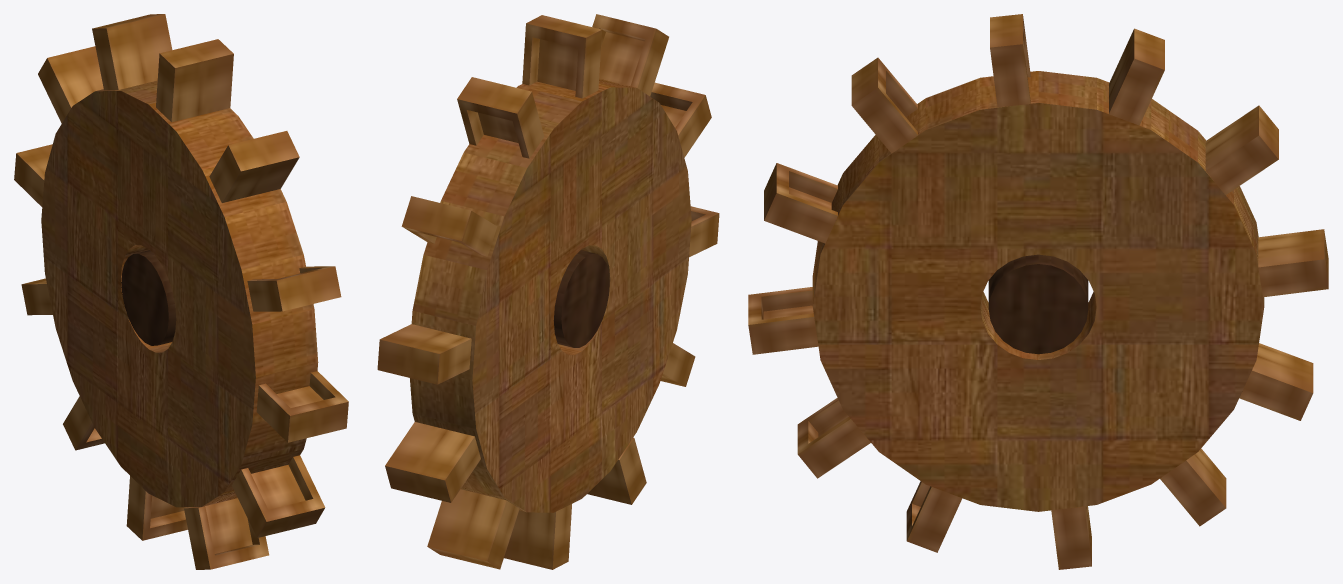
Rendered from gear_big_oneunit.fbx.
The picture shows the model from 3 angles, left to right: view 1: azimuth 30°, elevation 25°; view 2: azimuth 150°, elevation 25°; view 3: azimuth 270°, elevation 25°; orthographic projection. The views are drawn at different scales.
Visible parts, largest first — view 1: Group1, Ball_Holder_1_11, Ball_Holder_1_10, Ball_Holder_1_7, Ball_Holder_1_9, Ball_Holder_1_4, Ball_Holder_1_1, Ball_Holder_1_5, Ball_Holder_1_6, Ball_Holder_1_2, Ball_Holder_1_12, Ball_Holder_1_8 (+1 smaller); view 2: Group1, Ball_Holder_1_3, Ball_Holder_1_11, Ball_Holder_1_8, Ball_Holder_1_7, Ball_Holder_1_12, Ball_Holder_1_9, Ball_Holder_1_6, Ball_Holder_1_2, Ball_Holder_1_5, Ball_Holder_1_1, Ball_Holder_1_4 (+1 smaller); view 3: Group1, Ball_Holder_1_6, Ball_Holder_1_5, Ball_Holder_1_12, Ball_Holder_1_4, Ball_Holder_1_9, Ball_Holder_1_3, Ball_Holder_1_7, Ball_Holder_1_10, Ball_Holder_1_11, Ball_Holder_1_8, Ball_Holder_1_1 (+1 smaller).
Part boxes in pixels (box(x1,y1,x2,y2)): Group1: box(41, 80, 318, 507); Ball_Holder_1_11: box(156, 39, 233, 122); Ball_Holder_1_10: box(232, 455, 325, 537); Ball_Holder_1_7: box(92, 14, 172, 90); Ball_Holder_1_9: box(209, 131, 299, 202); Ball_Holder_1_4: box(256, 371, 348, 442); Ball_Holder_1_1: box(184, 498, 269, 569); Ball_Holder_1_5: box(247, 266, 341, 311); Ball_Holder_1_6: box(38, 46, 103, 123); Ball_Holder_1_2: box(126, 476, 187, 540); Ball_Holder_1_12: box(14, 144, 52, 206); Ball_Holder_1_8: box(63, 396, 104, 450); Group1: box(410, 78, 691, 512); Ball_Holder_1_3: box(385, 422, 480, 502); Ball_Holder_1_11: box(522, 15, 601, 98); Ball_Holder_1_8: box(427, 489, 519, 569); Ball_Holder_1_7: box(457, 77, 544, 158); Ball_Holder_1_12: box(377, 324, 471, 384); Ball_Holder_1_9: box(592, 14, 668, 96); Ball_Holder_1_6: box(401, 196, 497, 256); Ball_Holder_1_2: box(504, 504, 571, 569); Ball_Holder_1_5: box(650, 82, 711, 157); Ball_Holder_1_1: box(587, 437, 646, 504); Ball_Holder_1_4: box(689, 206, 719, 257); Group1: box(812, 71, 1264, 511); Ball_Holder_1_6: box(1205, 105, 1278, 194); Ball_Holder_1_5: box(764, 163, 837, 243); Ball_Holder_1_12: box(1258, 229, 1328, 297); Ball_Holder_1_4: box(748, 287, 818, 354); Ball_Holder_1_9: box(851, 57, 917, 153); Ball_Holder_1_3: box(1239, 343, 1313, 420); Ball_Holder_1_7: box(1109, 28, 1164, 125); Ball_Holder_1_10: box(797, 398, 870, 478); Ball_Holder_1_11: box(990, 14, 1030, 107); Ball_Holder_1_8: box(1160, 448, 1226, 526); Ball_Holder_1_1: box(906, 481, 962, 552).
Size of the model in its own units: 0.1212 by 0.8365 by 0.8369.
